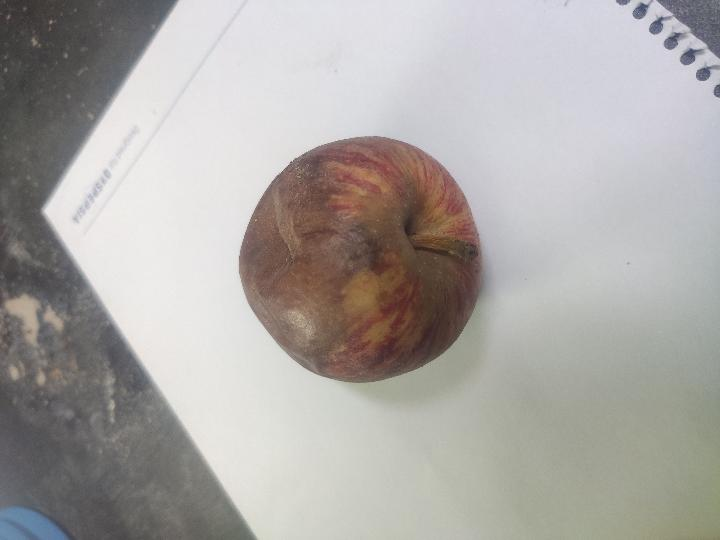apple: (239, 137, 481, 382)
rot_mold_decay: (239, 153, 480, 382)
